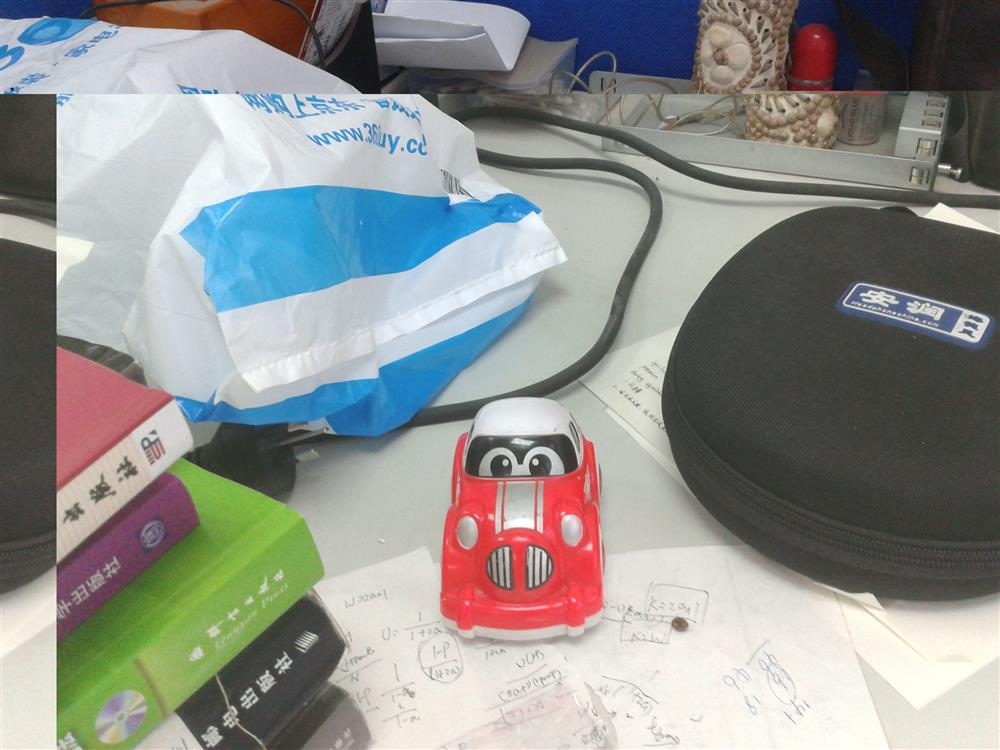toy_car: (437, 391, 610, 640)
